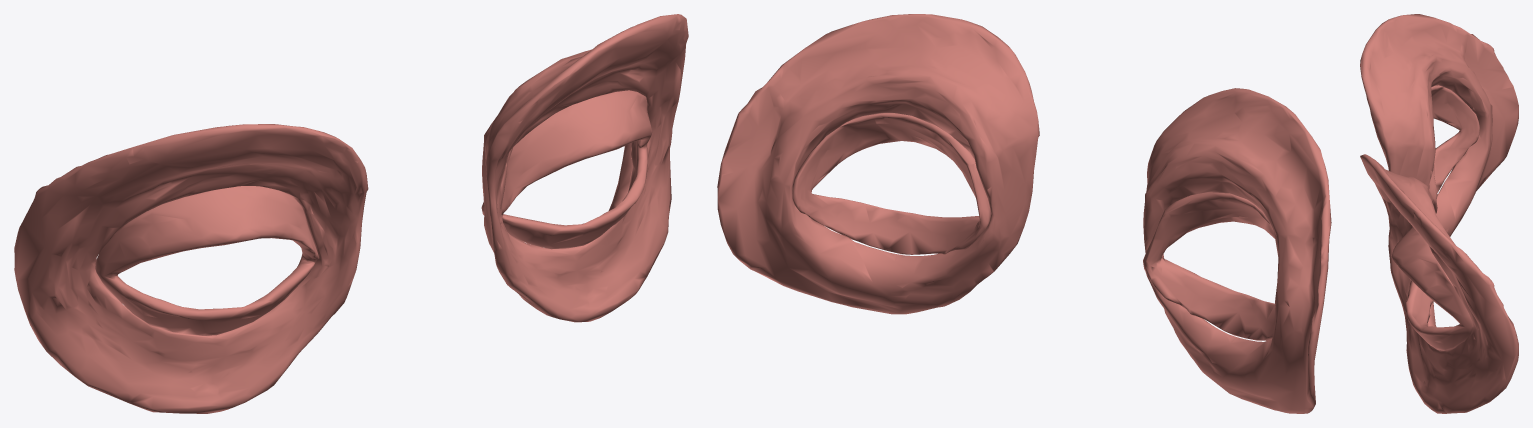
The model's file is orbicularis_oculi_lod1.glb.
The picture shows the model from 3 angles, left to right: view 1: azimuth 30°, elevation 25°; view 2: azimuth 150°, elevation 25°; view 3: azimuth 270°, elevation 25°; orthographic projection. The views are drawn at different scales.
Parts seen in each view (by area): view 1: orbicularis_oculi_R_lod1, orbicularis_oculi_L_lod1; view 2: orbicularis_oculi_L_lod1, orbicularis_oculi_R_lod1; view 3: orbicularis_oculi_R_lod1, orbicularis_oculi_L_lod1.
Boxes of the visible parts, x1=… form: orbicularis_oculi_R_lod1: x1=14, y1=124, x2=368, y2=413; orbicularis_oculi_L_lod1: x1=481, y1=14, x2=688, y2=322; orbicularis_oculi_L_lod1: x1=717, y1=14, x2=1039, y2=314; orbicularis_oculi_R_lod1: x1=1143, y1=88, x2=1331, y2=413; orbicularis_oculi_R_lod1: x1=1360, y1=14, x2=1518, y2=236; orbicularis_oculi_L_lod1: x1=1360, y1=154, x2=1518, y2=413.
Bounding box in the file's own units: 0.1119 × 0.0502 × 0.0311.
